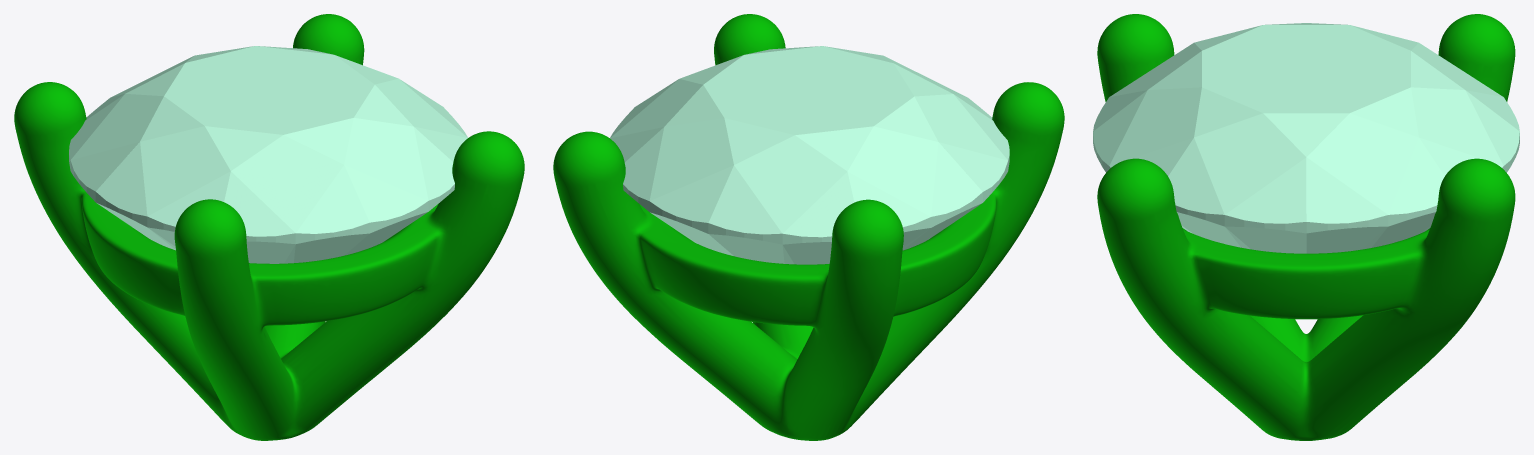
The picture shows the model from 3 angles, left to right: view 1: azimuth 30°, elevation 25°; view 2: azimuth 150°, elevation 25°; view 3: azimuth 270°, elevation 25°; orthographic projection. The views are drawn at different scales.
Visible parts, largest first — view 1: Metal01, CS_Diamond; view 2: Metal01, CS_Diamond; view 3: Metal01, CS_Diamond.
Boxes of the visible parts, box(x1,y1,x2,y2) form: Metal01: box(14, 14, 524, 440); CS_Diamond: box(69, 46, 467, 263); Metal01: box(553, 14, 1064, 440); CS_Diamond: box(610, 46, 1009, 264); Metal01: box(1097, 14, 1515, 440); CS_Diamond: box(1093, 23, 1519, 253).
Size of the model in its own units: 6.5 by 5.96 by 6.5.
